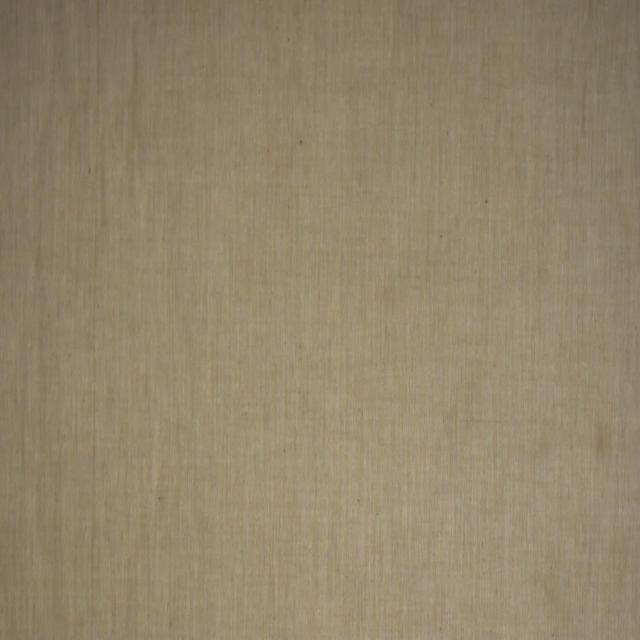dirty: (593, 418, 611, 462)
